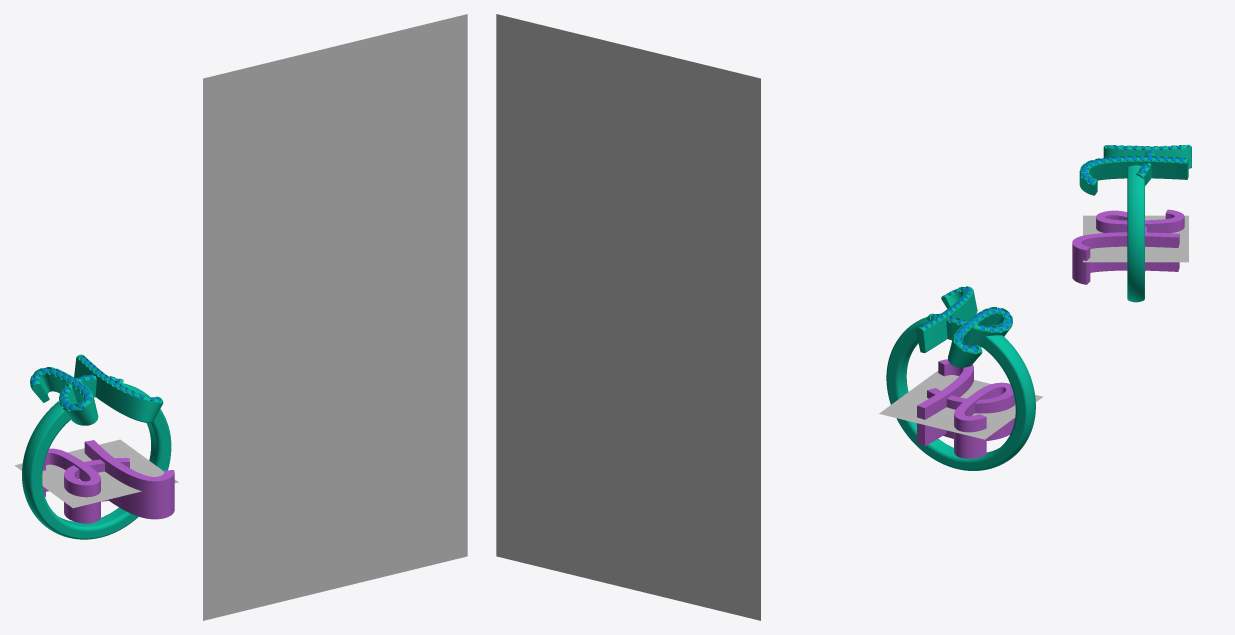
The picture shows the model from 3 angles, left to right: view 1: azimuth 30°, elevation 25°; view 2: azimuth 150°, elevation 25°; view 3: azimuth 270°, elevation 25°; orthographic projection. The views are drawn at different scales.
Visible parts, largest first — view 1: VR1067(front).3dm; view 2: VR1067(front).3dm; view 3: VR1067(front).3dm.
Part boxes in pixels (box(x1,y1,x2,y2)): VR1067(front).3dm: box(14, 14, 467, 620); VR1067(front).3dm: box(496, 14, 1043, 620); VR1067(front).3dm: box(1072, 144, 1191, 302).
Size of the model in its own units: 8.34 by 8.82 by 2.42.
